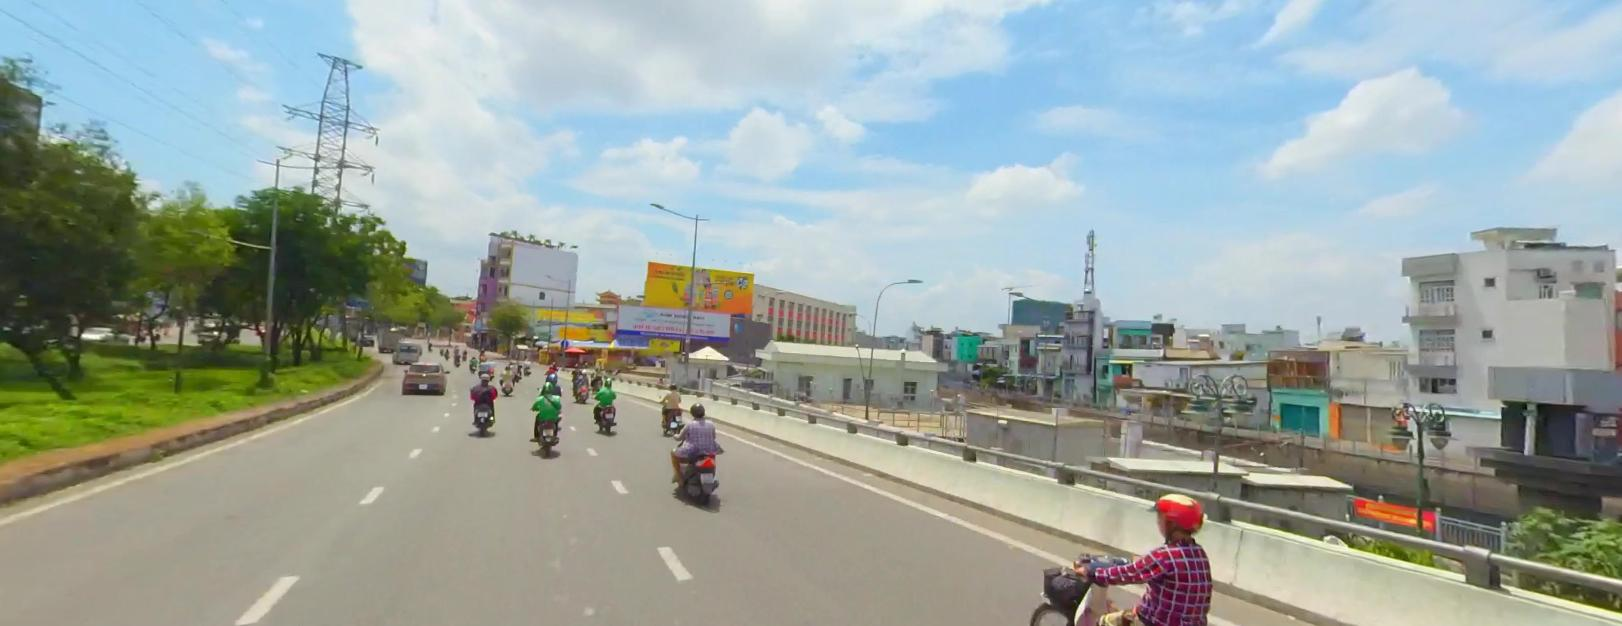Hieu lenh: (560, 339, 568, 347)
